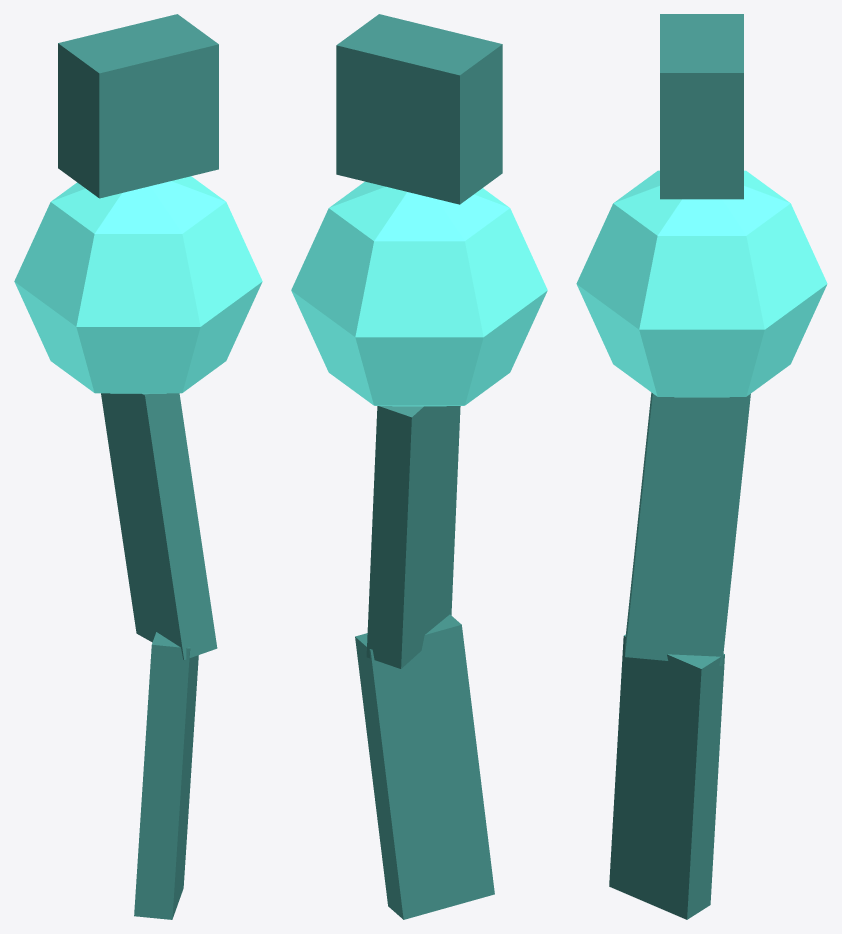
The model's file is gear_norigae_t2_L.glb.
3 views of the same model, side by side, from view 1: azimuth 30°, elevation 25°; view 2: azimuth 150°, elevation 25°; view 3: azimuth 270°, elevation 25° (orthographic). The views are drawn at different scales.
Parts seen in each view (by area): view 1: gear_norigae_t2_L; view 2: gear_norigae_t2_L; view 3: gear_norigae_t2_L.
Part boxes in pixels (box(x1,y1,x2,y2)): gear_norigae_t2_L: box(14, 14, 262, 919); gear_norigae_t2_L: box(291, 14, 547, 919); gear_norigae_t2_L: box(576, 14, 827, 919).
Bounding box in the file's own units: 0.0779 × 0.3391 × 0.09.
